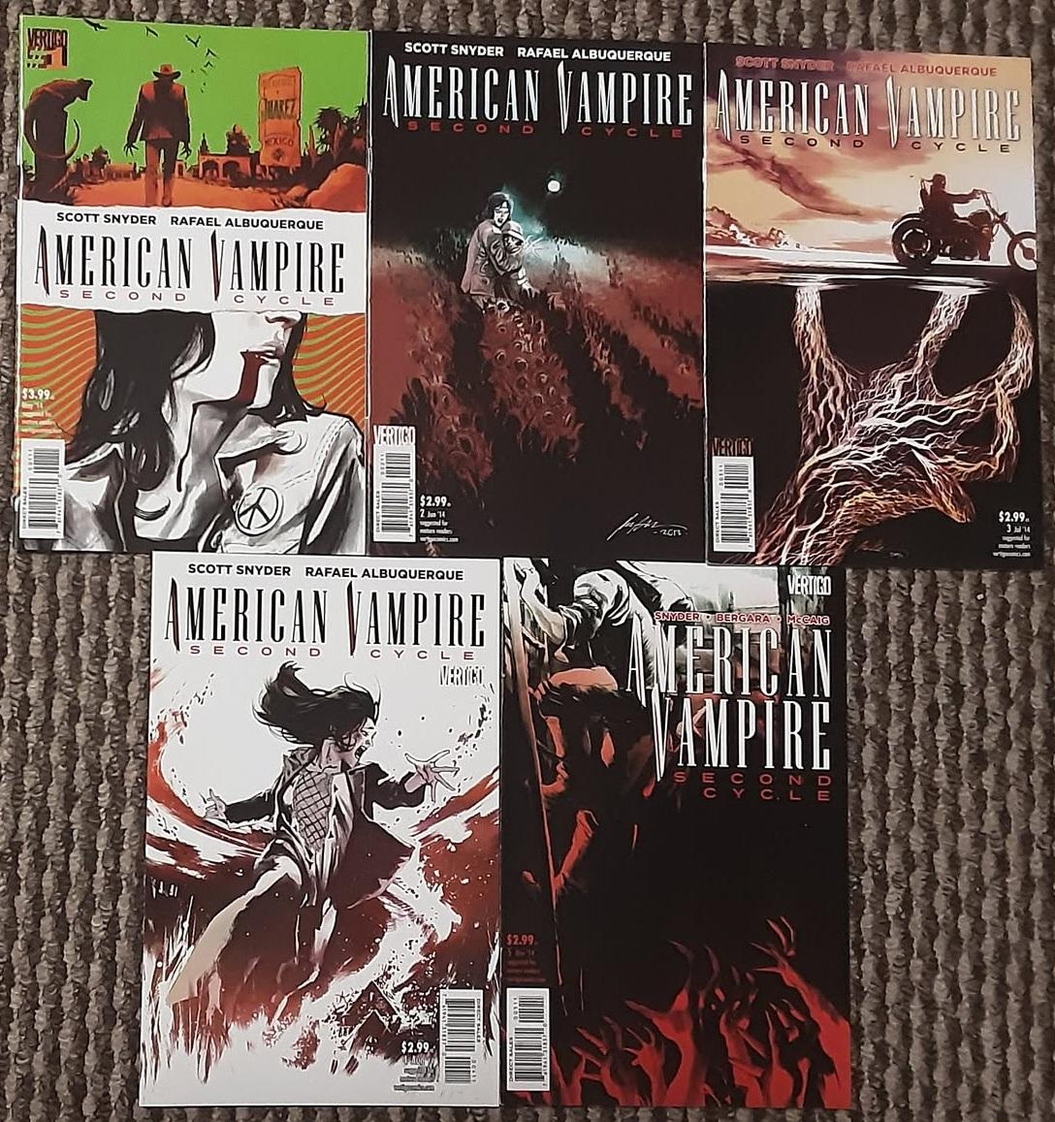comic: (140, 552, 500, 1106), (14, 16, 372, 553), (502, 560, 849, 1107), (704, 43, 1042, 569), (370, 33, 704, 560)
